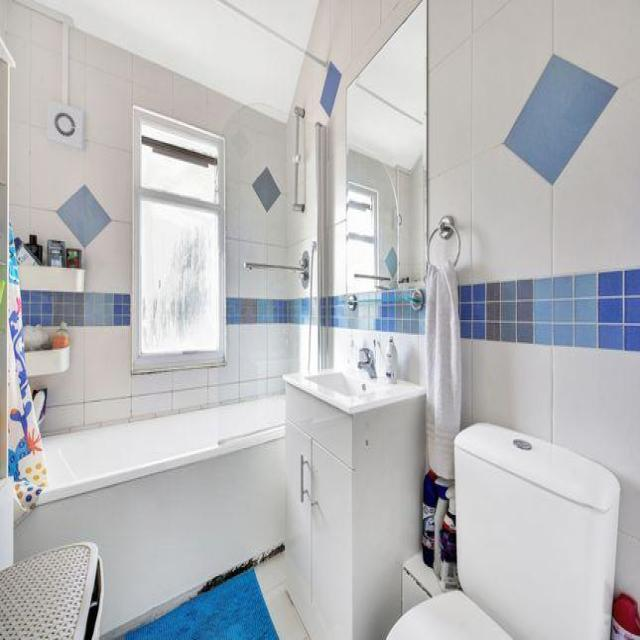Wall: (0, 0, 424, 435), (429, 0, 640, 601), (39, 0, 304, 121), (124, 553, 307, 640), (226, 0, 318, 48)
